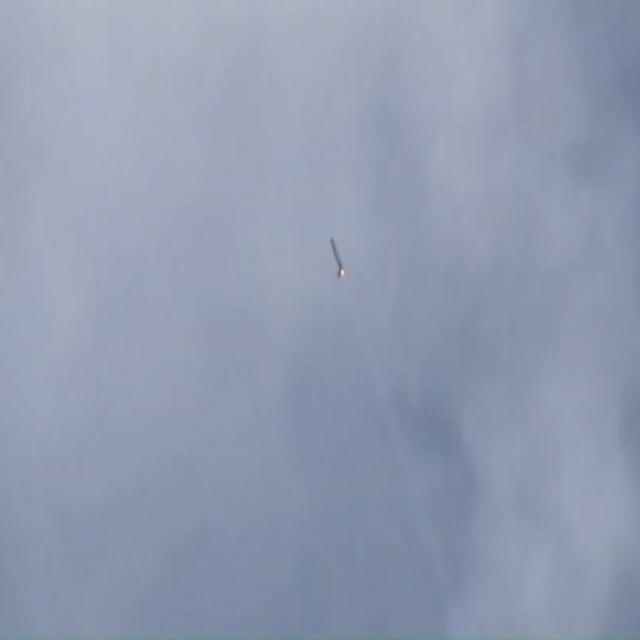Rocket: (330, 236, 345, 278)
